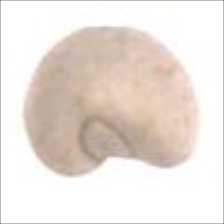L5: (75, 113, 151, 171), (66, 24, 144, 44)
L6: (20, 24, 206, 182)
